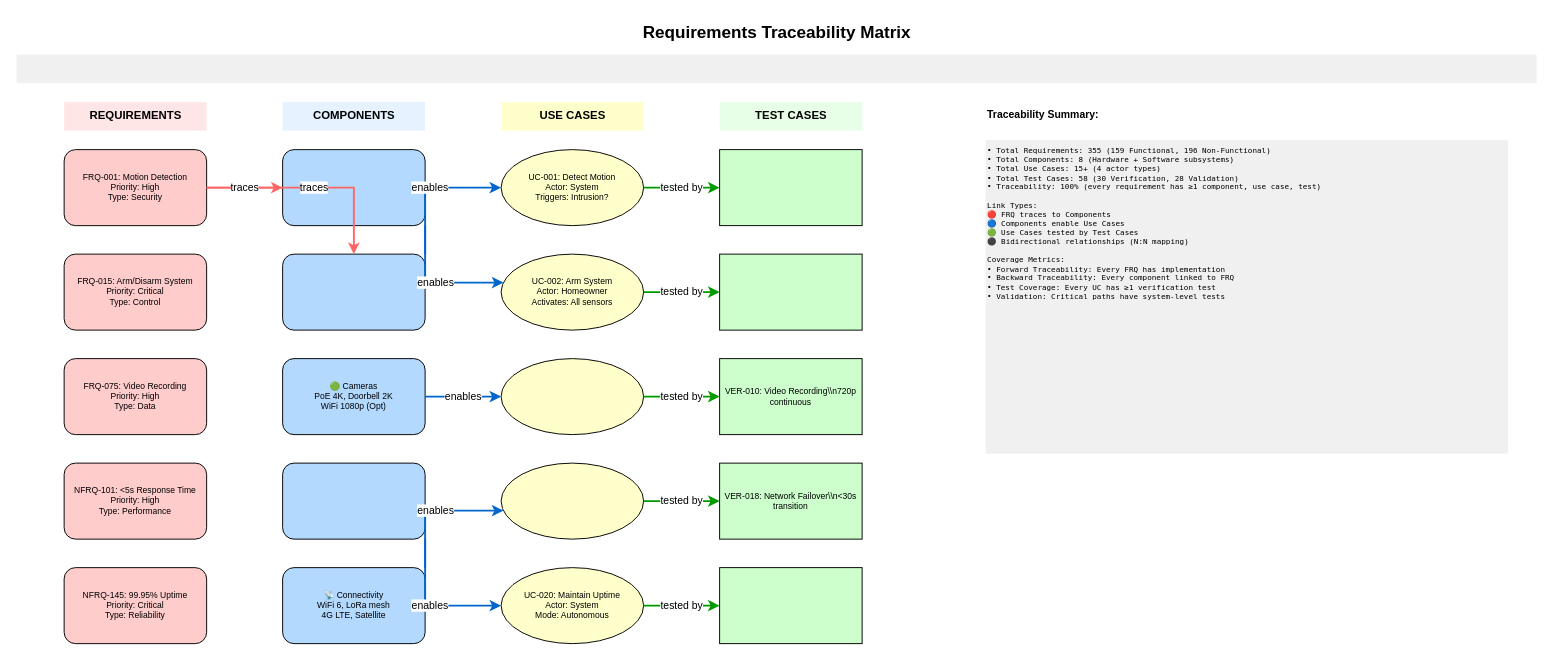
Some shapes in this 1552 by 660 pixel diagram are drawn without their labels. The centre of each missing label's shape, as x and y in pixels:
"Bidirectional Mapping: Requirements ↔ Components ↔ Use Cases ↔ Tests" goes at point (776, 68).
"UC-007: View Video Actor: Homeowner Protocol: WiFi/4G" goes at point (572, 396).
"UC-015: Network Failover Actor: System Trigger: WiFi loss" goes at point (572, 500).
"VER-001: Motion Sensor\\n<5s response (Lab)" goes at point (790, 187).
"VER-005: Arm Function\\nAll sensors activate" goes at point (790, 291).
"VER-025: Uptime Test\\n30-day run" goes at point (790, 605).
"⚡ Power Subsystem AC + UPS (4h) LiFePO4 battery" goes at point (353, 500).
"🔴 Sensors Motion, Door, Water LoRaWAN 915MHz" goes at point (353, 291).
"🔵 Hub (Processor) Raspberry Pi 4B Event handling" goes at point (353, 187).
